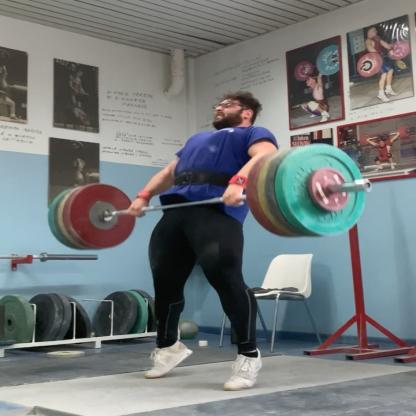barbell: (283, 144, 368, 238), (70, 184, 137, 250)
